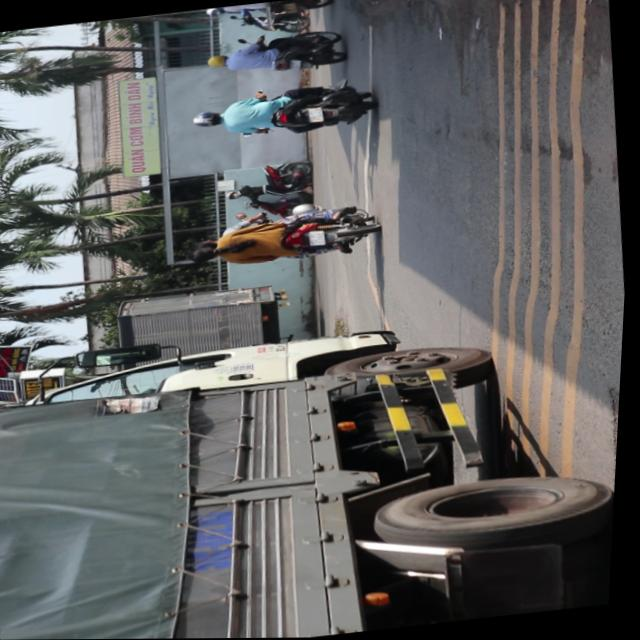helmet: (191, 111, 222, 131)
licenseplate: (185, 202, 382, 276), (188, 79, 377, 148)
motorcyclist: (190, 245, 221, 265)
nohelmet: (306, 108, 324, 124), (309, 231, 327, 247)
